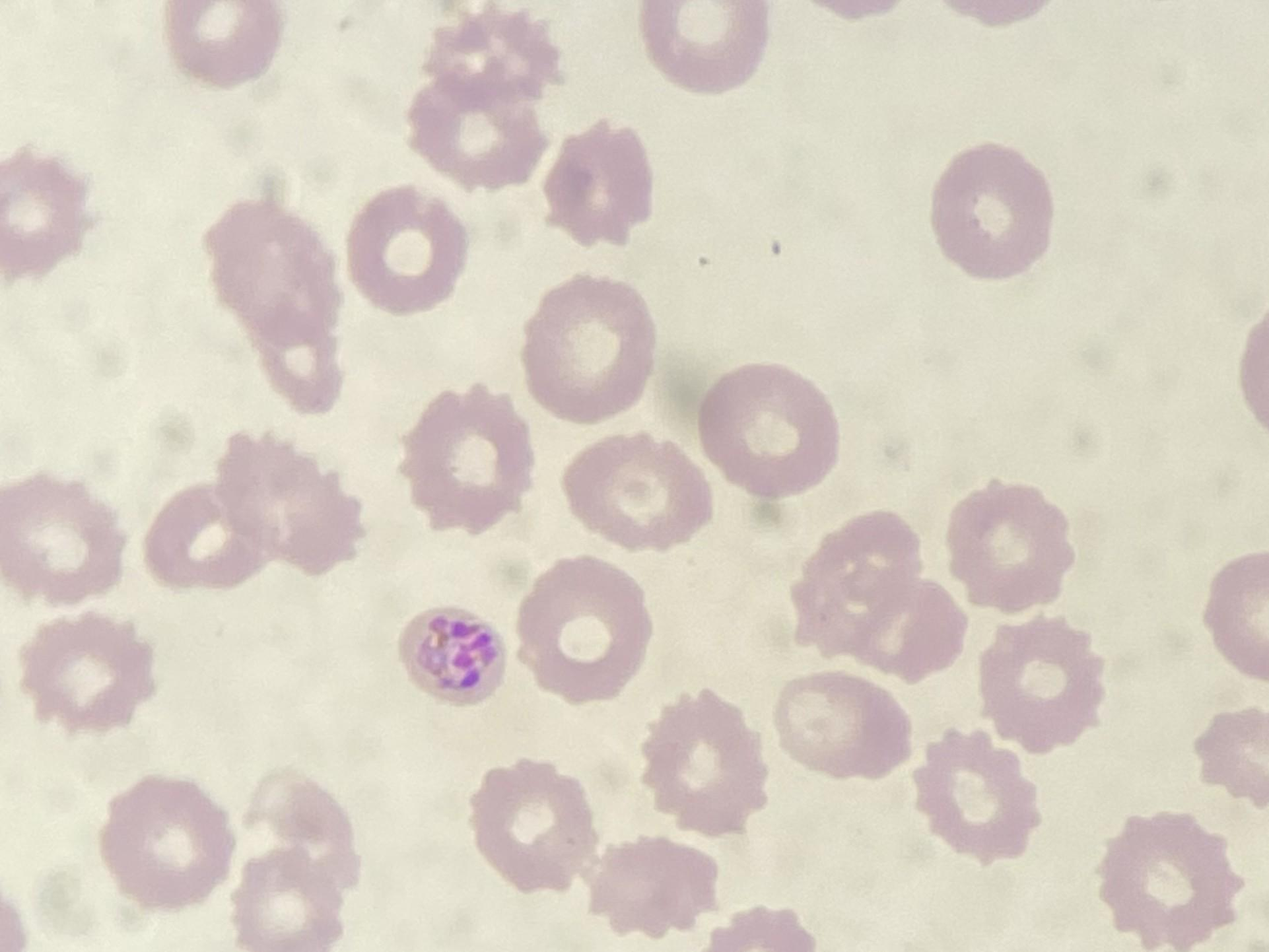Infected: (398, 604, 508, 705)
Uninfected: (795, 508, 973, 681), (203, 195, 347, 404), (218, 430, 362, 574), (514, 559, 653, 703), (399, 386, 537, 531), (520, 276, 656, 419), (638, 690, 768, 837), (1095, 812, 1238, 945), (99, 774, 233, 909), (704, 364, 842, 493), (563, 432, 710, 552), (468, 758, 596, 893), (930, 141, 1057, 275), (912, 732, 1040, 864), (947, 479, 1076, 609), (980, 616, 1107, 747), (0, 473, 125, 605), (18, 615, 161, 729), (347, 187, 473, 315), (408, 78, 546, 192), (776, 671, 914, 782), (246, 769, 361, 891), (423, 7, 556, 110), (543, 121, 654, 244), (587, 838, 716, 939), (1, 147, 94, 277), (144, 486, 258, 592), (231, 856, 345, 952)
